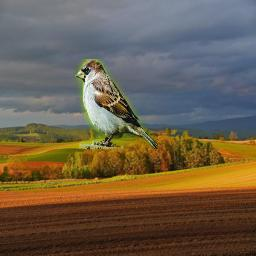Sparrow: (76, 59, 159, 149)
